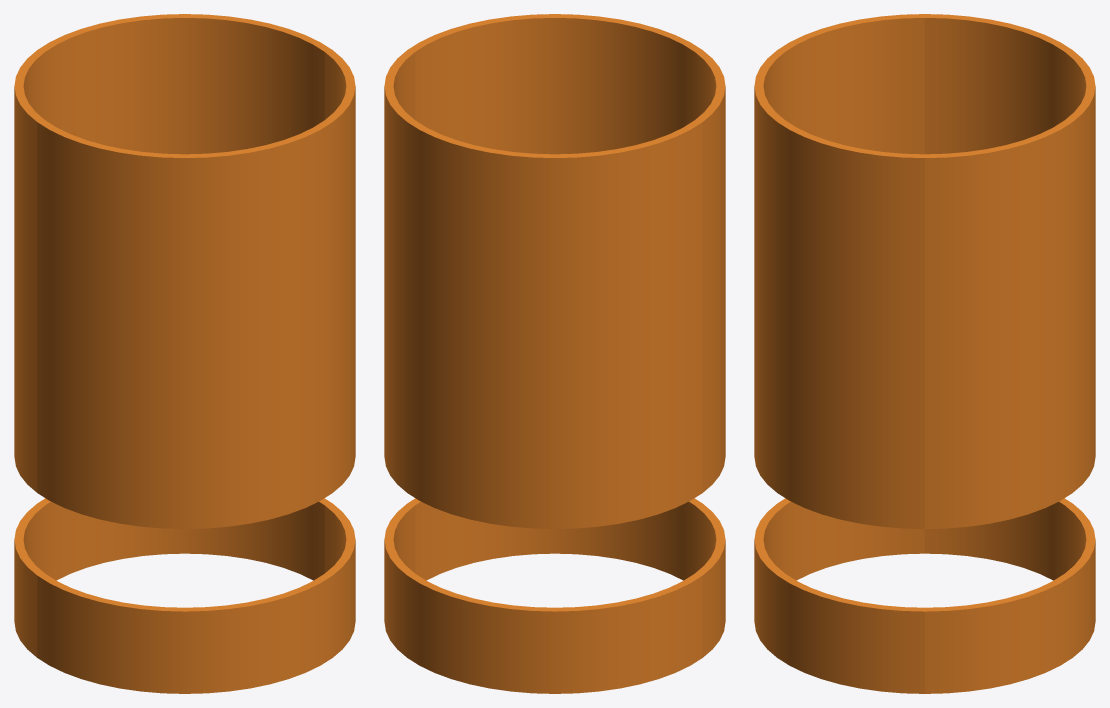
Rendered from hydraulic_accumulator_pressure.glb.
The picture shows the model from 3 angles, left to right: view 1: azimuth 30°, elevation 25°; view 2: azimuth 150°, elevation 25°; view 3: azimuth 270°, elevation 25°; orthographic projection.
Visible parts, largest first — view 1: bands__front, bands__back; view 2: bands__back, bands__front; view 3: bands__back, bands__front.
Boxes of the visible parts, left/top/right/bottom form: bands__front: left=37, top=50, right=355, bottom=693; bands__back: left=14, top=14, right=332, bottom=657; bands__back: left=384, top=50, right=702, bottom=693; bands__front: left=407, top=14, right=725, bottom=657; bands__back: left=925, top=14, right=1095, bottom=693; bands__front: left=754, top=14, right=924, bottom=693.
Size of the model in its own units: 0.3 by 0.52 by 0.3.
